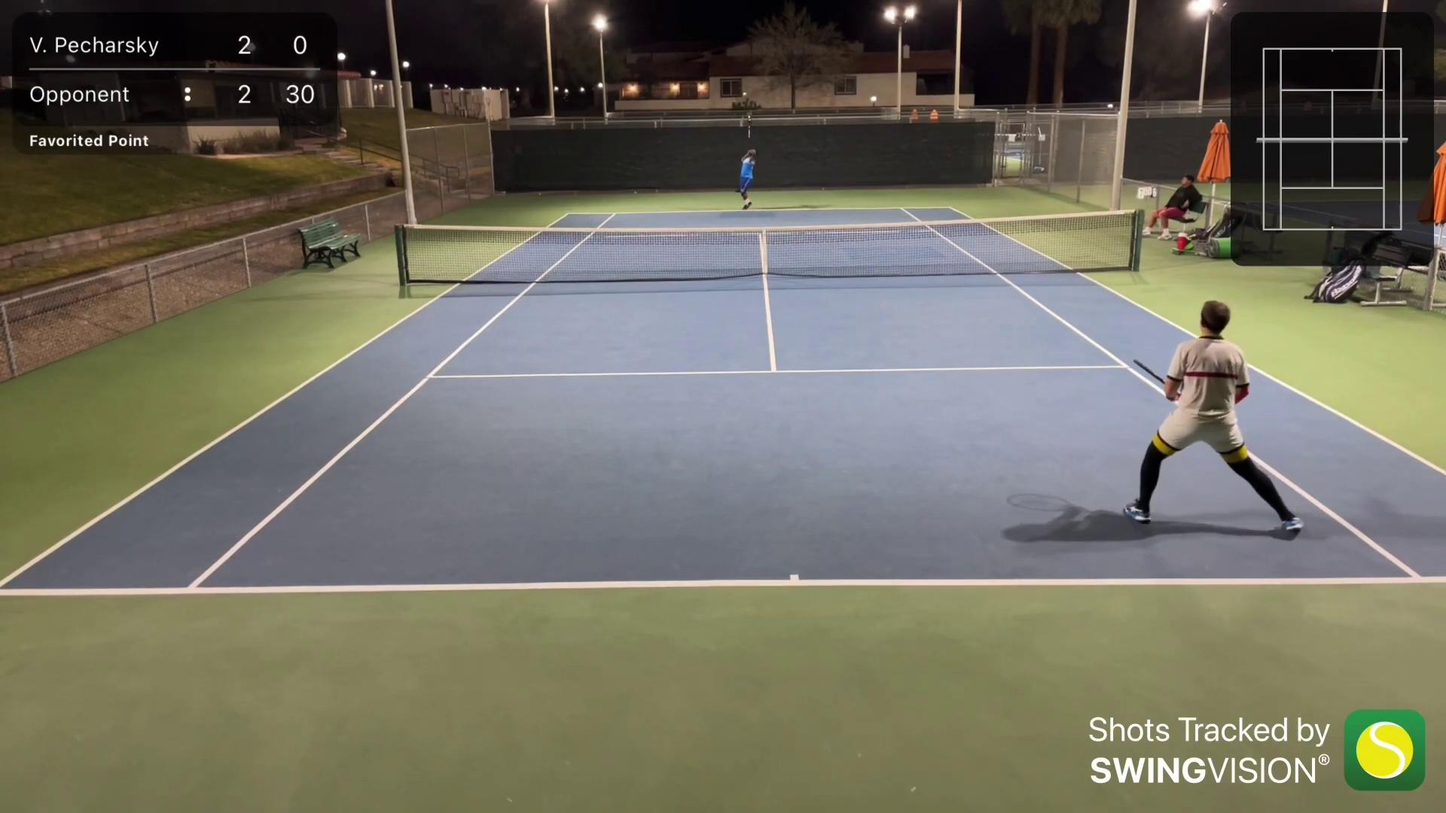ball: (740, 91, 751, 97), (629, 190, 639, 196), (535, 192, 541, 196)
